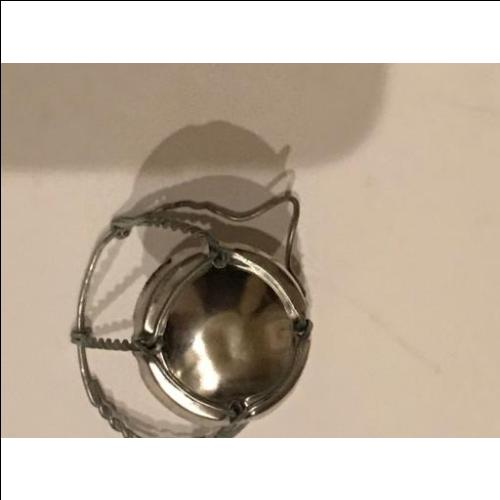metal: (140, 245, 310, 414)
